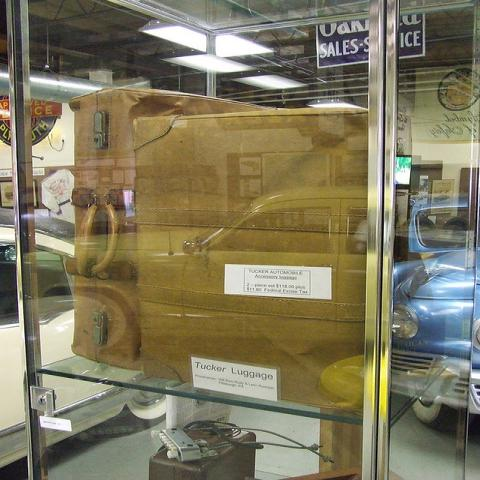car: (59, 185, 366, 414), (0, 228, 173, 475), (387, 194, 479, 429)
